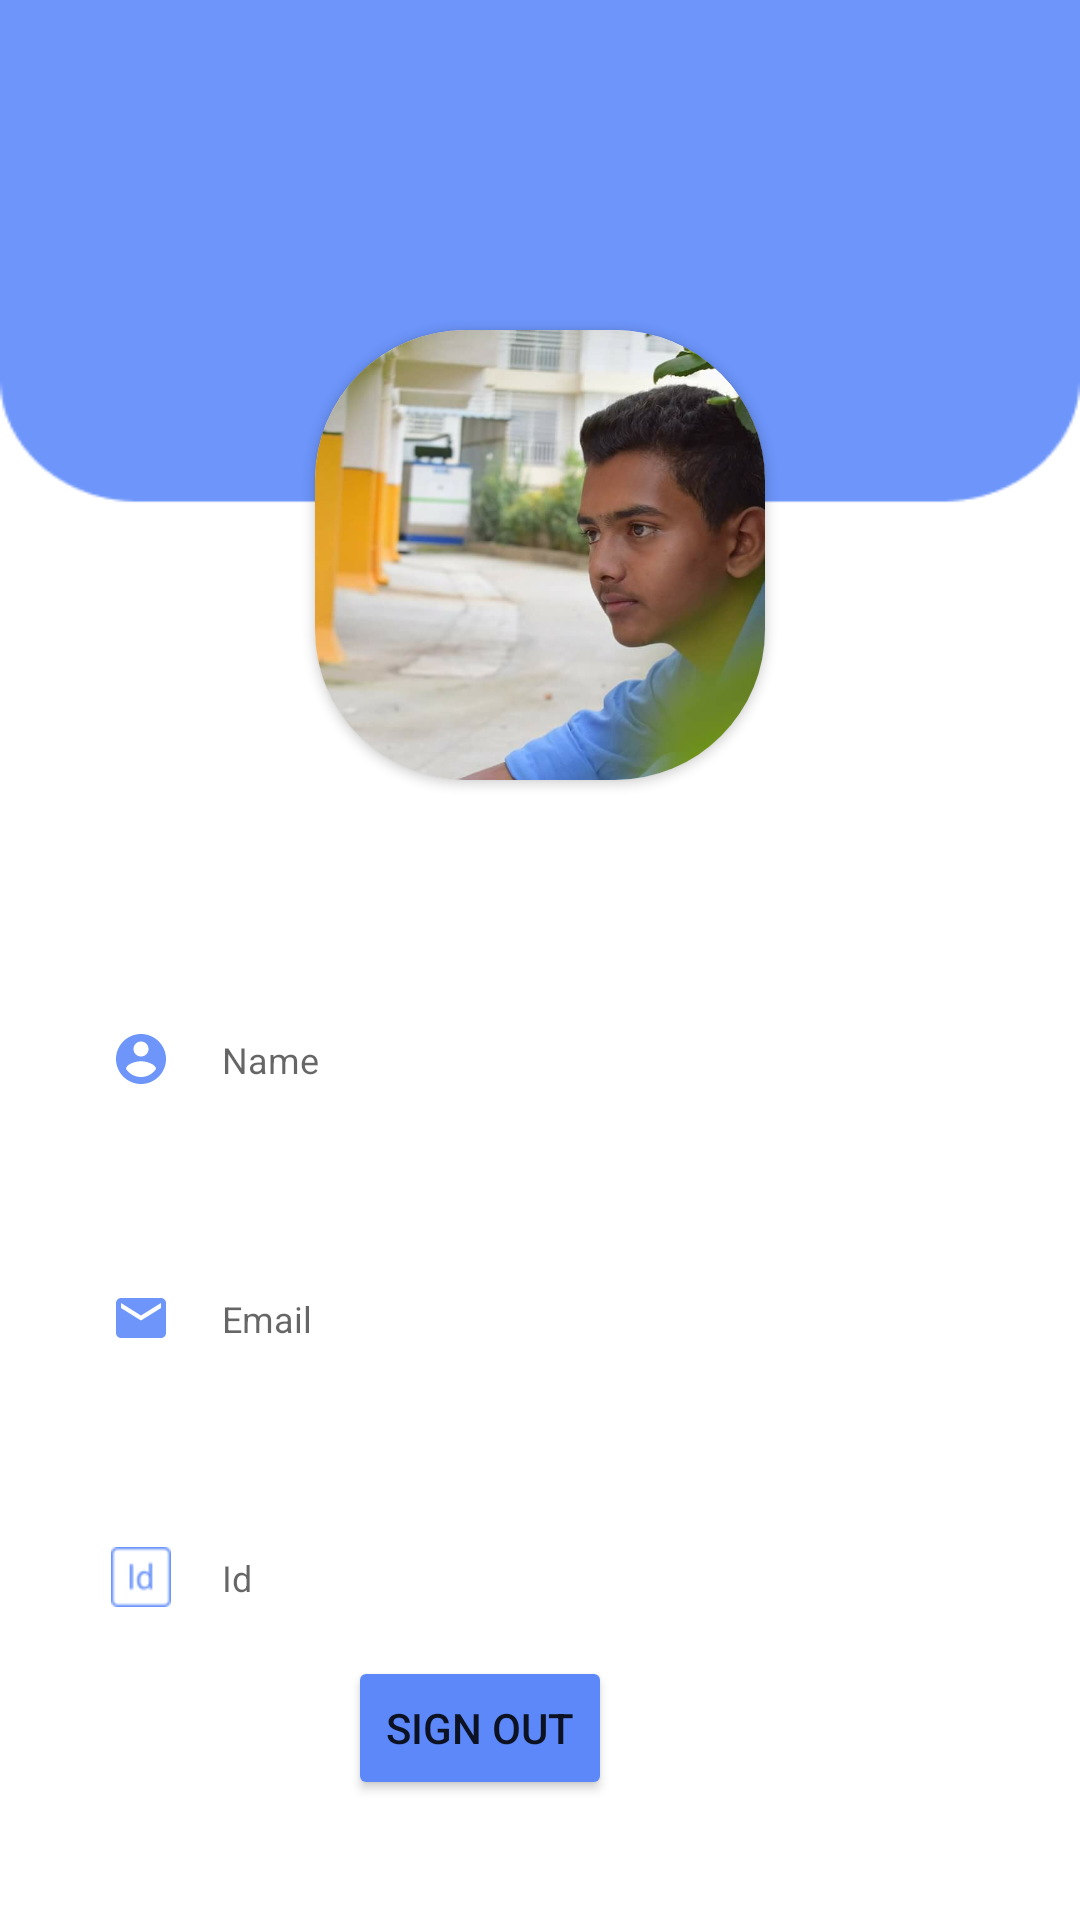

Locate icon controls on the screen. Image size 1080×1920, boxes as (x1=x1, y1=y1, x2=x2, y2=y2).
account circle: (x1=116, y1=1034, x2=166, y2=1084)
